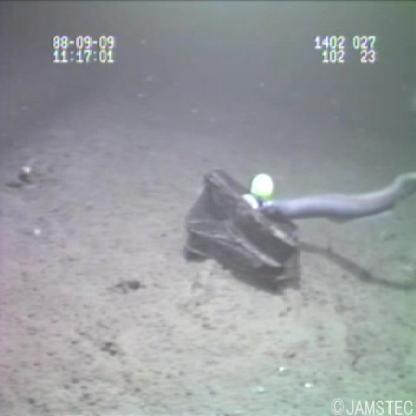Bio: (255, 167, 416, 226)
Rác: (179, 165, 304, 298)
